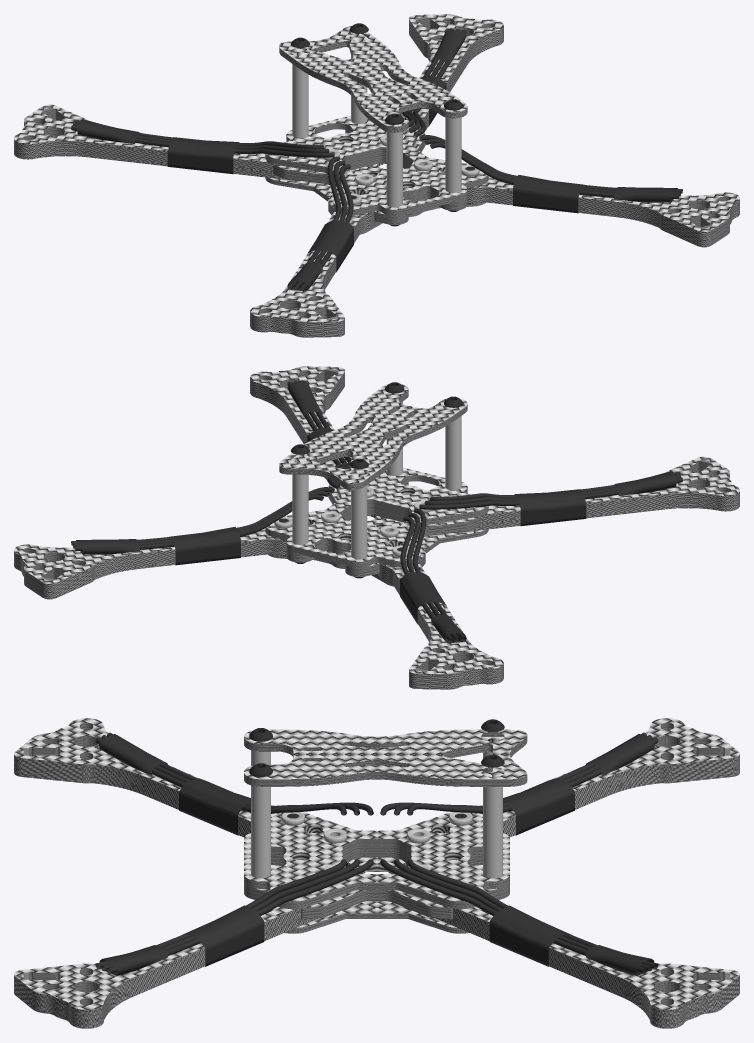
The model's file is part switchback frame.fbx.
The picture shows the model from 3 angles, top to bottom: view 1: azimuth 30°, elevation 25°; view 2: azimuth 150°, elevation 25°; view 3: azimuth 270°, elevation 25°; orthographic projection. The views are drawn at different scales.
Parts seen in each view (by area): view 1: part switchback frame; view 2: part switchback frame; view 3: part switchback frame.
Part boxes in pixels (x1,y1,x2,y2): part switchback frame: [14, 14, 739, 337]; part switchback frame: [14, 366, 739, 689]; part switchback frame: [14, 718, 739, 1028].
Bounding box in the file's own units: 165 × 39.4 × 174.
